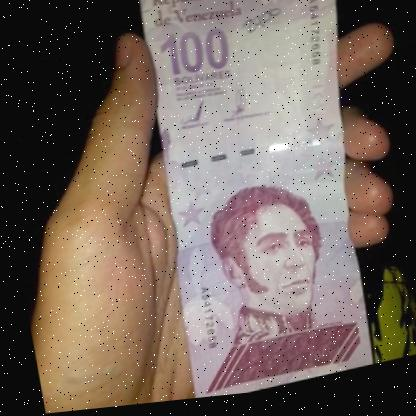one_hundred-front-vef: (123, 0, 391, 406)
